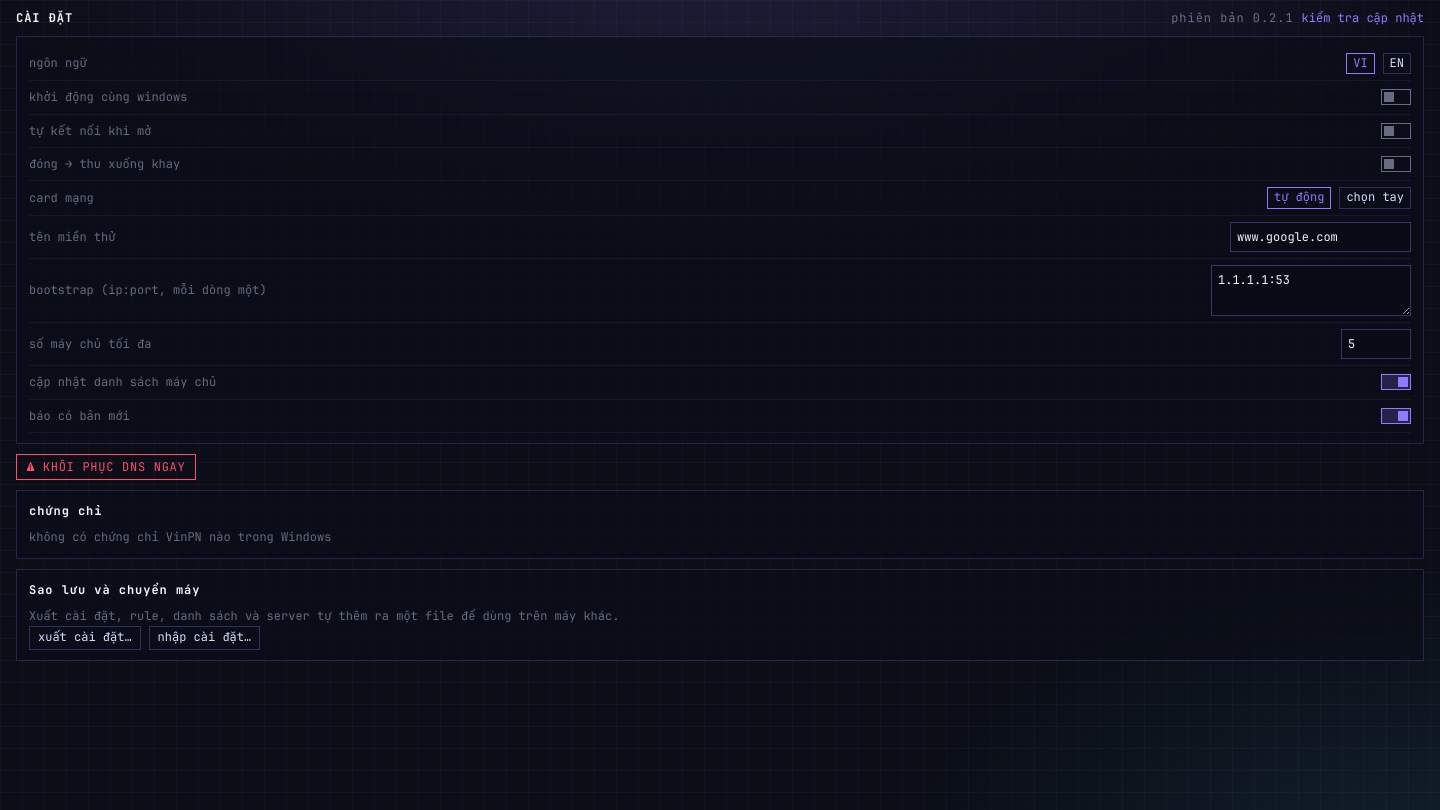
Test: check for updates: already up to date
Step 1. Click the button "kiểm tra cập nhật" → (1363, 18), box left=1302, top=10, right=1424, bottom=26
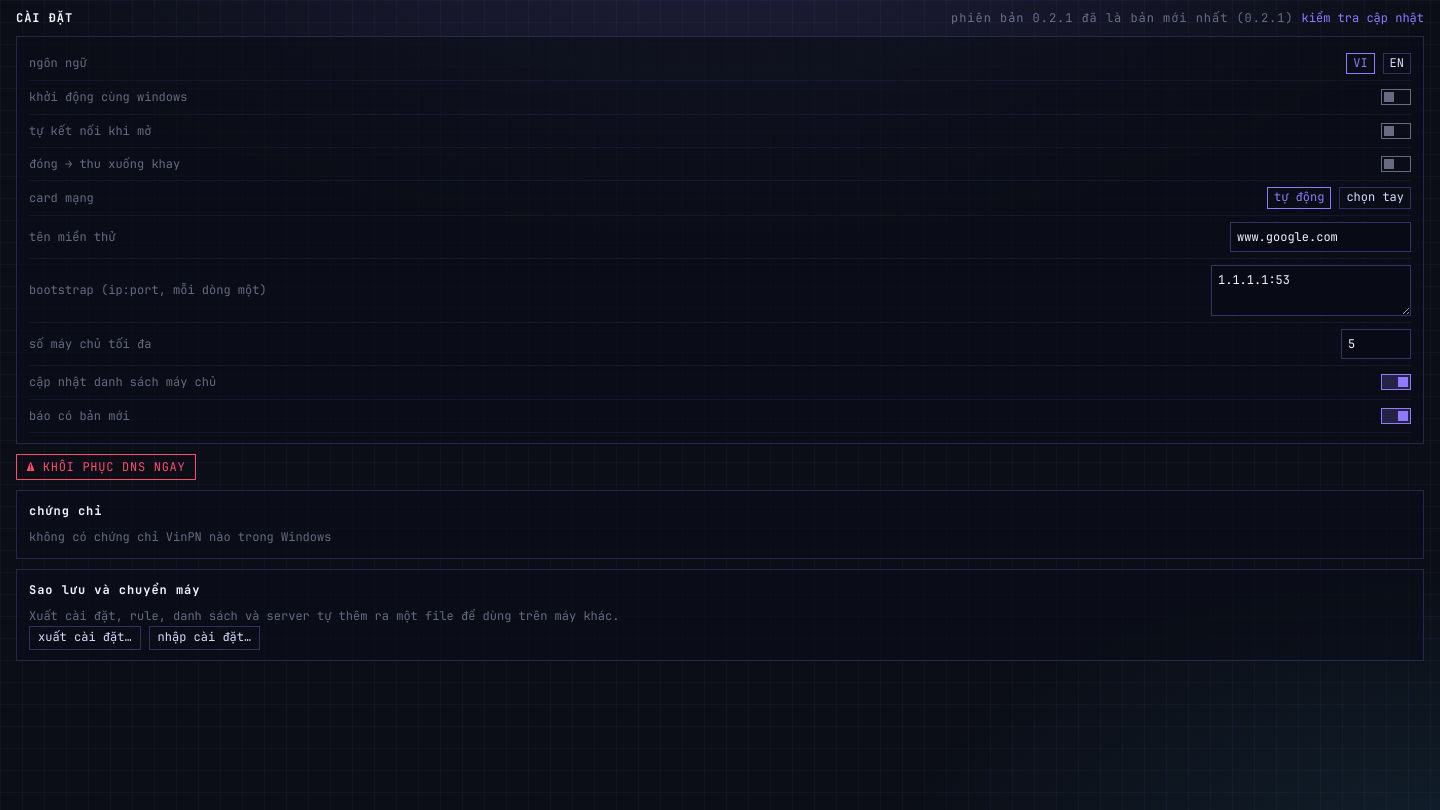
Expected: the text "đã là bản mới nhất (0.2.1)" is shown, left=1081, top=10, right=1294, bottom=26
